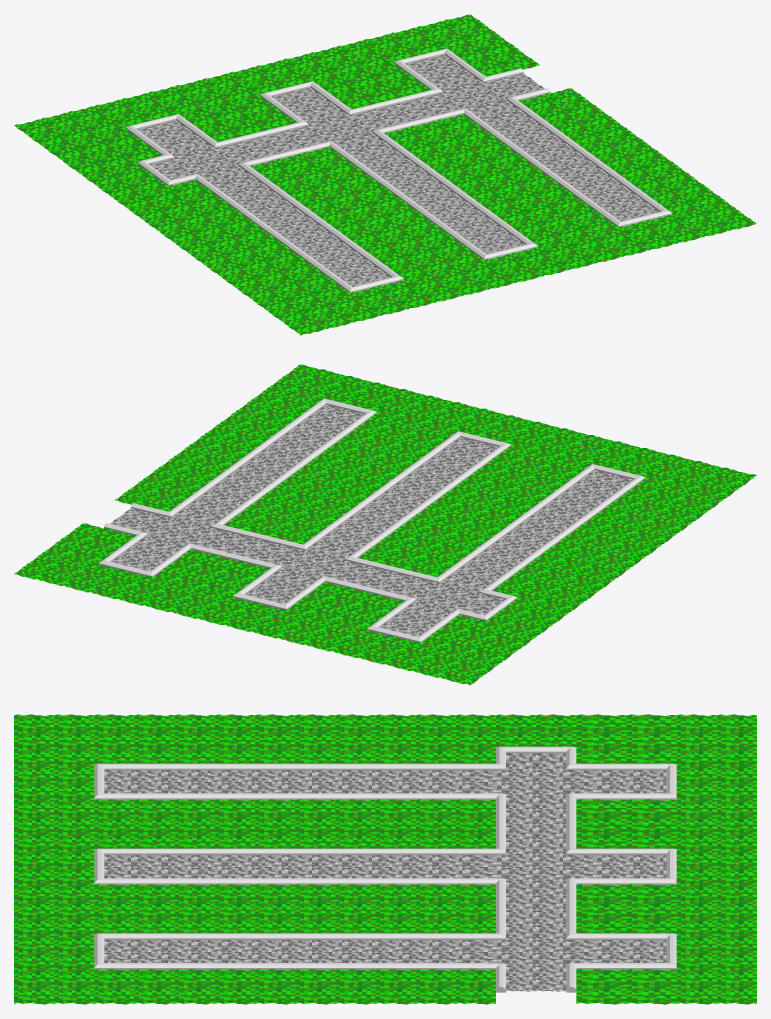
The model's file is SM_Terrain.fbx.
The picture shows the model from 3 angles, top to bottom: view 1: azimuth 30°, elevation 25°; view 2: azimuth 150°, elevation 25°; view 3: azimuth 270°, elevation 25°; orthographic projection. The views are drawn at different scales.
Visible parts, largest first — view 1: Terrain; view 2: Terrain; view 3: Terrain.
Boxes of the visible parts, x1=… form: Terrain: x1=14, y1=14, x2=756, y2=335; Terrain: x1=14, y1=364, x2=756, y2=685; Terrain: x1=14, y1=714, x2=756, y2=1004.
Size of the model in its own units: 6800 by 59.55 by 7400.
